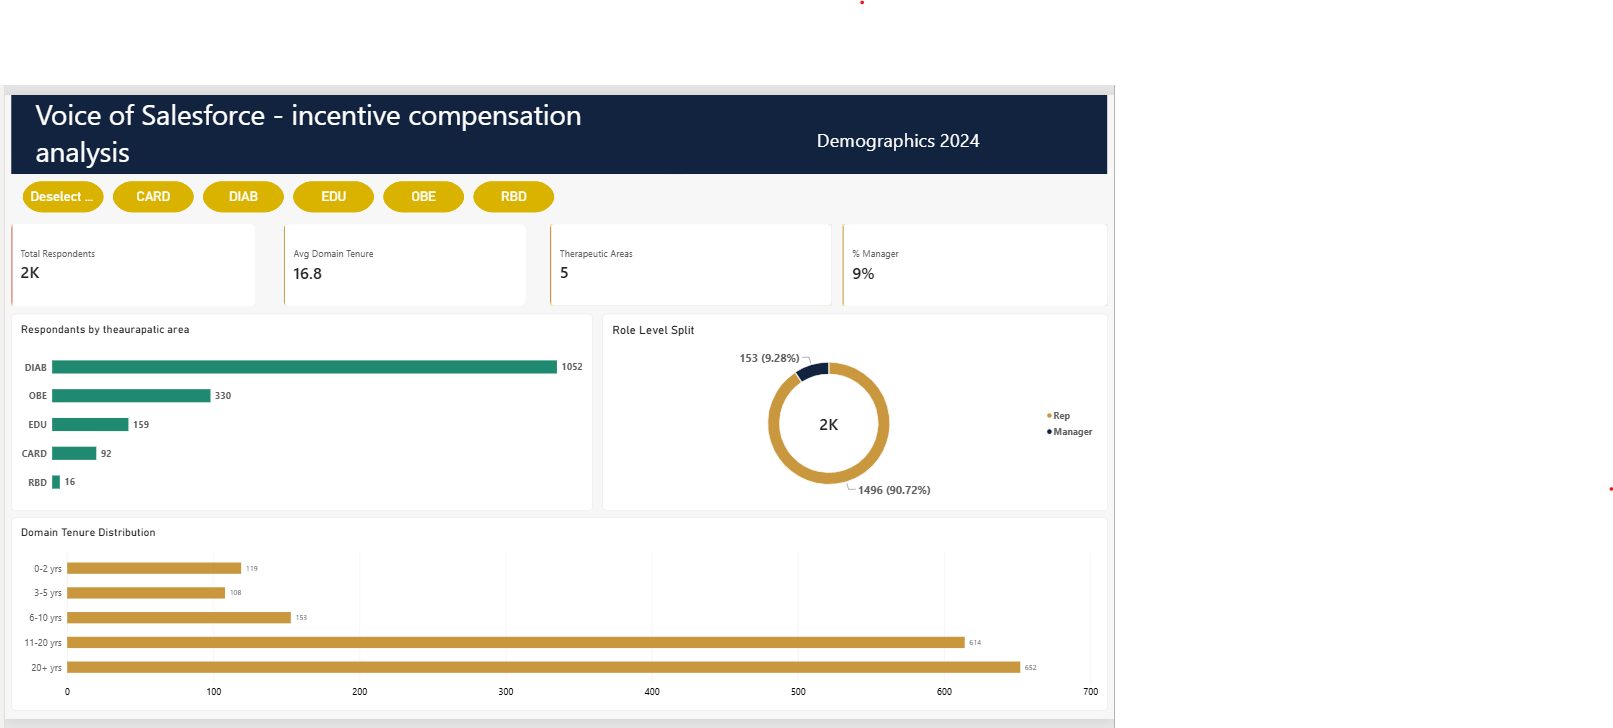

Layout of this report page (visuals, bound fields, positions):
{"tool":"powerbi","page":{"name":"Page 1","canvas":[1920,1080],"ordinal":0},"visuals":[{"type":"clusteredBarChart","title":"Respondants by theaurapatic area","fields":{"Category":["Fact_Sentiment_Long.TA"],"Y":["Fact_Sentiment_Long.Total Respondents"]},"box":[11.1,377.8,1006.9,341.7],"z":0},{"type":"donutChart","title":"Role Level Split","fields":{"Category":["Fact_Sentiment_Long.Role Level"],"Y":["Fact_Sentiment_Long.Total Respondents"]},"box":[1034.7,377.8,875,341.7],"z":1000},{"type":"clusteredBarChart","title":"Domain Tenure Distribution","fields":{"Y":["Fact_Sentiment_Long.Total Respondents"],"Category":["Fact_Sentiment_Long.Exp_in_domain_band"]},"box":[11.1,731.9,1898.6,334.7],"z":2000},{"type":"cardVisual","title":"Total Respondents ","fields":{"Data":["Fact_Sentiment_Long.Total Respondents"]},"box":[11.1,222.2,422.2,143.1],"z":3000},{"type":"cardVisual","title":"% Manager ","fields":{"Data":["Fact_Benchmarks.% Manager"]},"box":[1450,222.2,459.7,143.1],"z":4000},{"type":"cardVisual","title":"Therapeutic Areas ","fields":{"Data":["Fact_Benchmarks.Therapeutic Areas"]},"box":[944.6,222.6,488.6,143],"z":5000},{"type":"advancedSlicerVisual","fields":{"Values":["Fact_Sentiment_Long.TA"]},"box":[10.9,150.2,1869.4,54.3],"z":6000},{"type":"textbox","box":[10.7,0,1164.8,136.5],"z":7000},{"type":"textbox","box":[1143.5,0,765.9,136.5],"z":8000},{"type":"cardVisual","fields":{"Data":["Fact_Sentiment_Long.Avg Domain Tenure"]},"box":[481.8,222.7,420.5,143.2],"z":9000}]}

Visuals, with their boxes on the page's 1920x1080 design canvas (x1, y1, x2, y2). These are canvas units, not pixel positions in the 1613x728 screenshot, which may show the page scaled, cropped or inside an application window:
"Respondants by theaurapatic area" clusteredBarChart: <region>11, 378, 1018, 720</region>
"Role Level Split" donutChart: <region>1035, 378, 1910, 720</region>
"Domain Tenure Distribution" clusteredBarChart: <region>11, 732, 1910, 1067</region>
"Total Respondents " cardVisual: <region>11, 222, 433, 365</region>
"% Manager " cardVisual: <region>1450, 222, 1910, 365</region>
"Therapeutic Areas " cardVisual: <region>945, 223, 1433, 366</region>
advancedSlicerVisual - Fact_Sentiment_Long.TA: <region>11, 150, 1880, 204</region>
textbox: <region>11, 0, 1176, 136</region>
textbox: <region>1144, 0, 1909, 136</region>
cardVisual - Fact_Sentiment_Long.Avg Domain Tenure: <region>482, 223, 902, 366</region>
